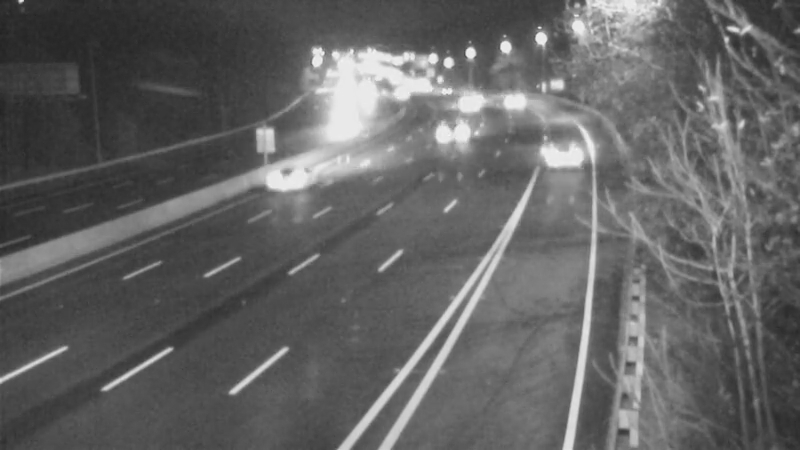vehicle: (248, 138, 328, 218), (377, 70, 427, 120), (419, 66, 469, 116), (439, 79, 489, 129), (484, 74, 534, 124), (430, 100, 480, 150), (533, 124, 583, 174), (317, 101, 367, 151)
